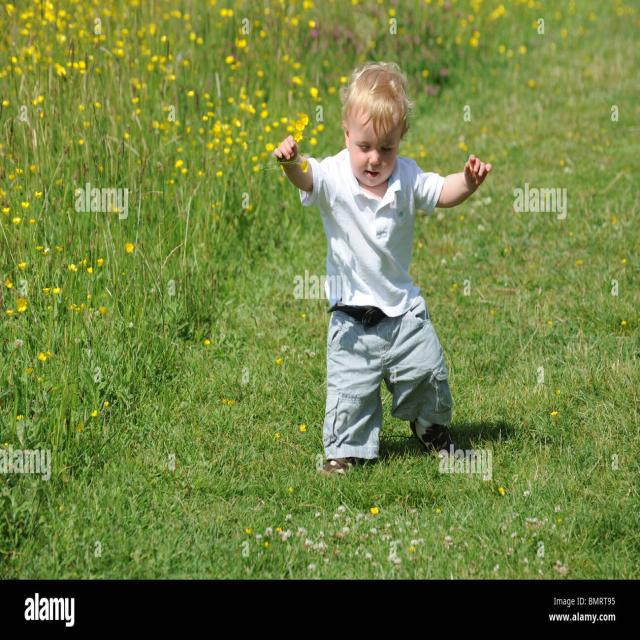Person: (273, 66, 491, 466)
